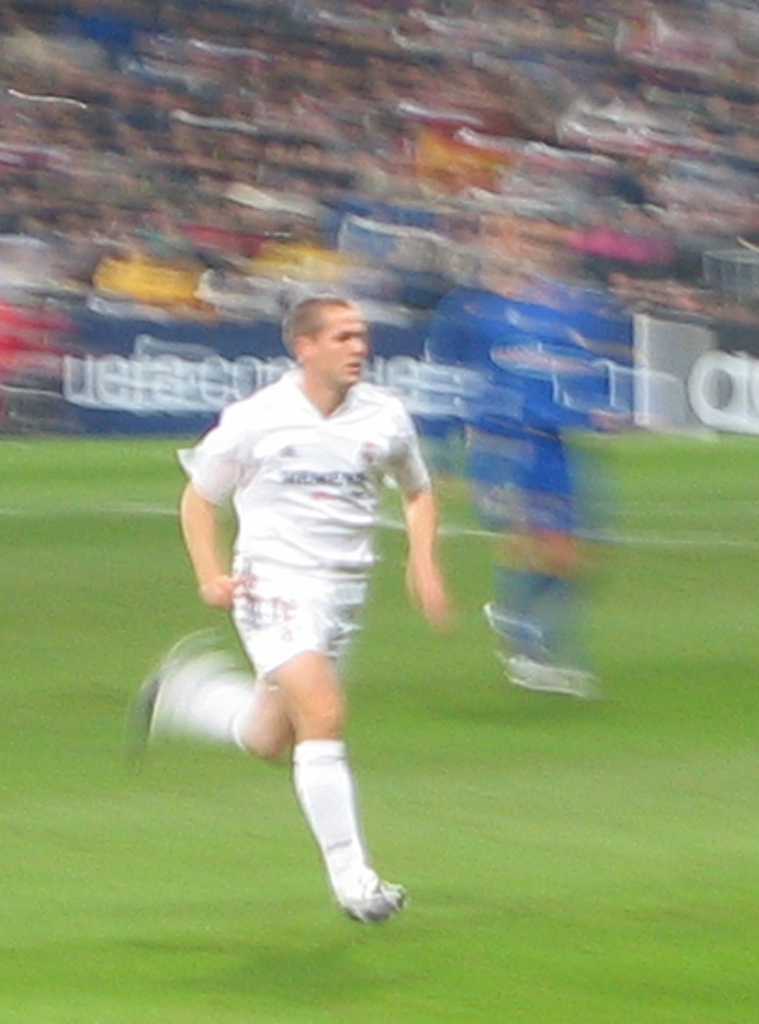Person: (0, 0, 759, 925)
